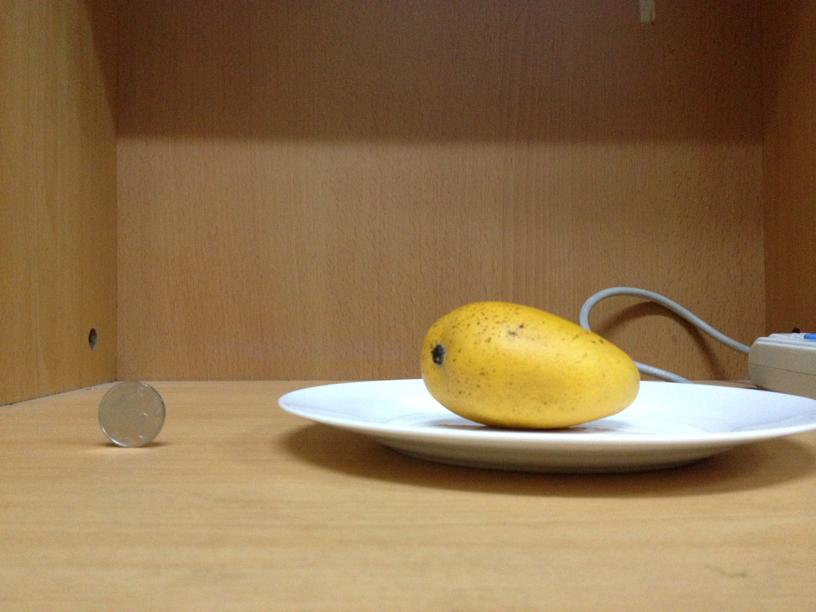coin: (98, 377, 164, 448)
mango: (421, 299, 640, 429)
